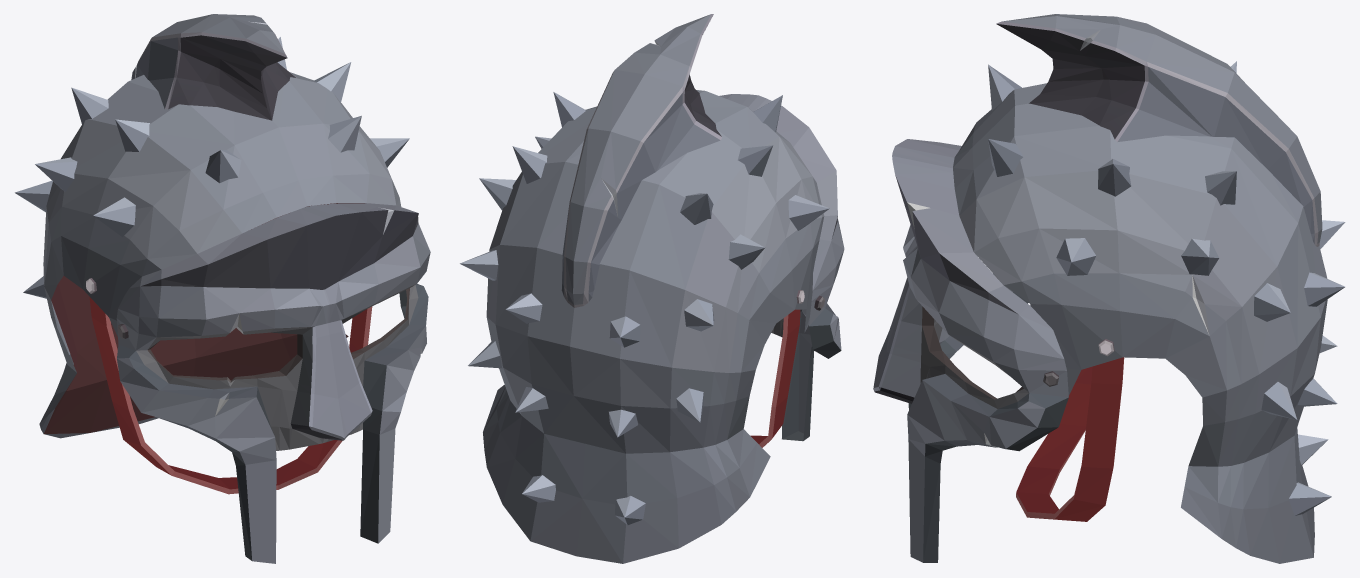
The model's file is maximusHelmetFemale.glb.
3 views of the same model, side by side, from view 1: azimuth 30°, elevation 25°; view 2: azimuth 150°, elevation 25°; view 3: azimuth 270°, elevation 25° (orthographic). The views are drawn at different scales.
Visible parts, largest first — view 1: maximusHelmet, maximusHelmetVisor; view 2: maximusHelmet, maximusHelmetVisor; view 3: maximusHelmet, maximusHelmetVisor.
Boxes of the visible parts, bbox=[...] form: maximusHelmet: bbox=[15, 14, 409, 494]; maximusHelmetVisor: bbox=[116, 203, 430, 563]; maximusHelmet: bbox=[460, 14, 829, 563]; maximusHelmetVisor: bbox=[719, 94, 844, 441]; maximusHelmet: bbox=[953, 14, 1345, 563]; maximusHelmetVisor: bbox=[873, 139, 1068, 562].
Size of the model in its own units: 0.2728 by 0.3957 by 0.3261.
